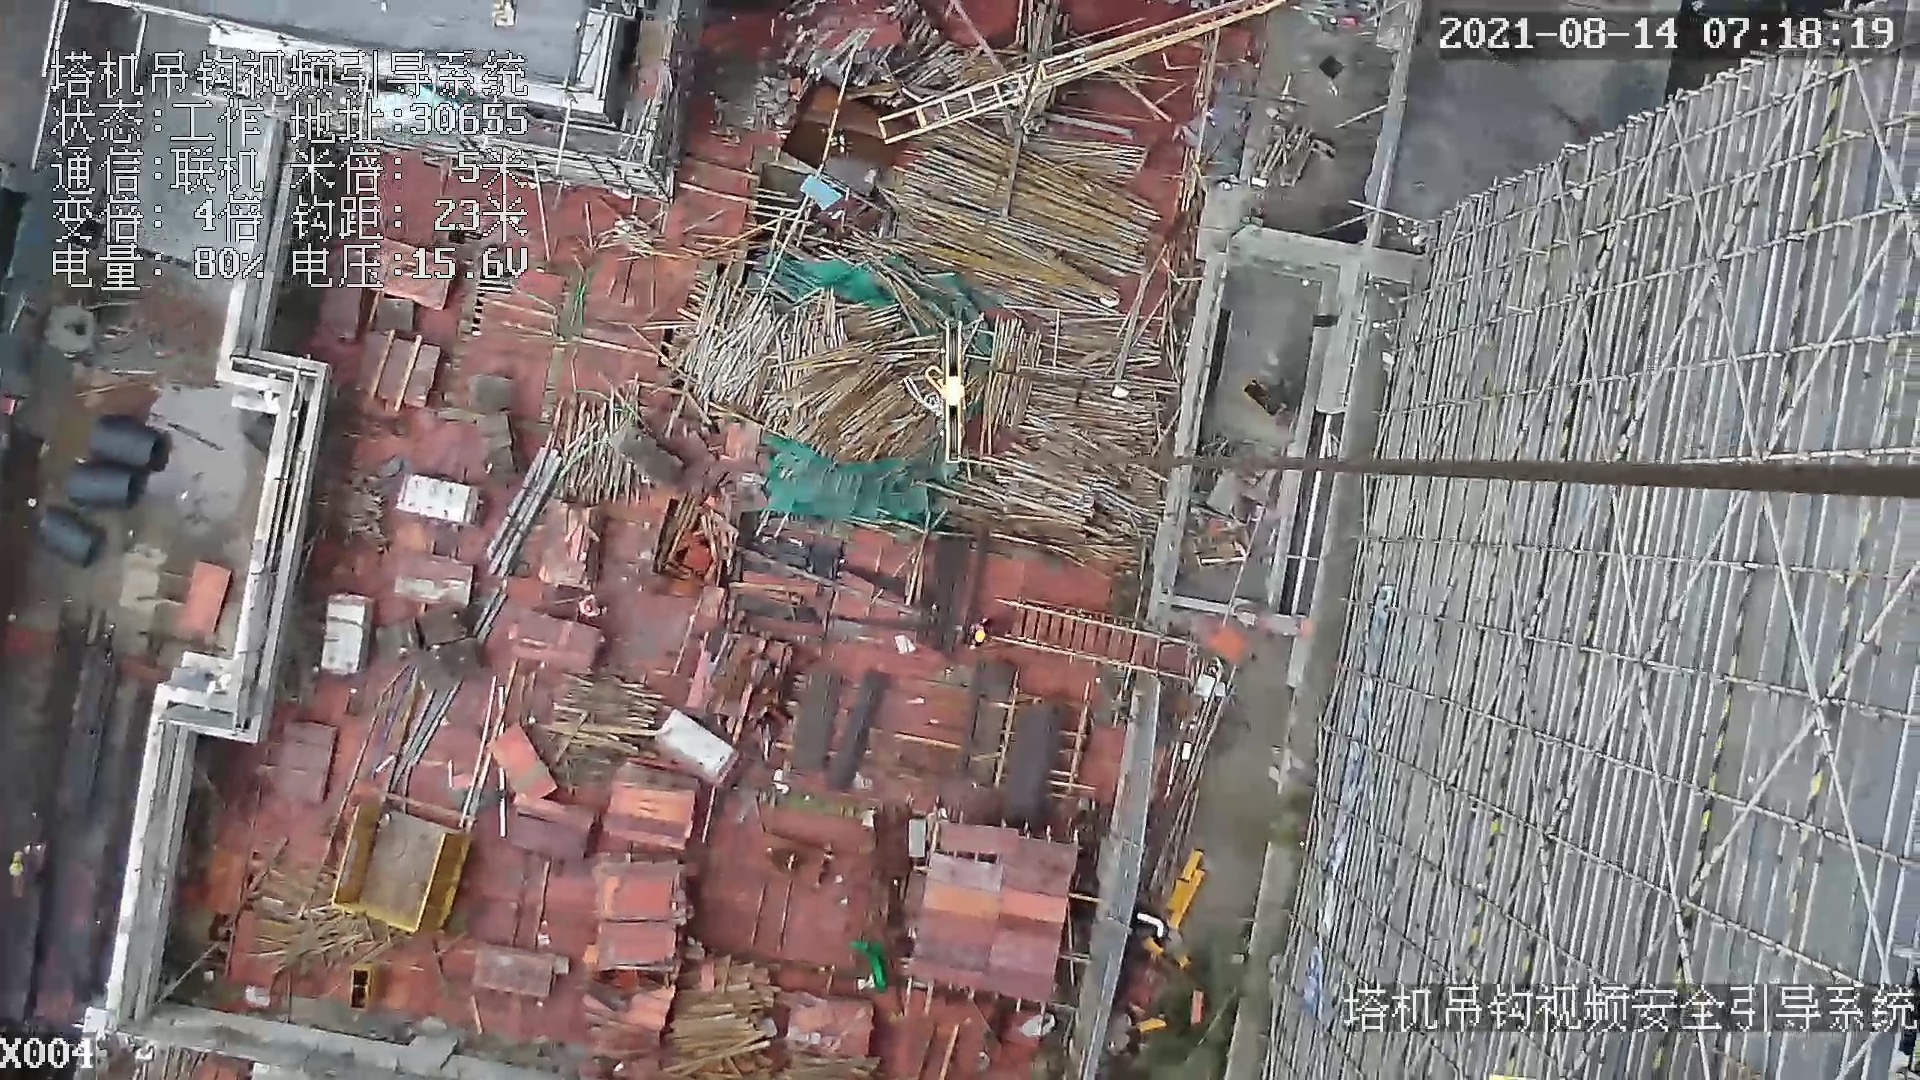hook: (920, 313, 978, 472)
